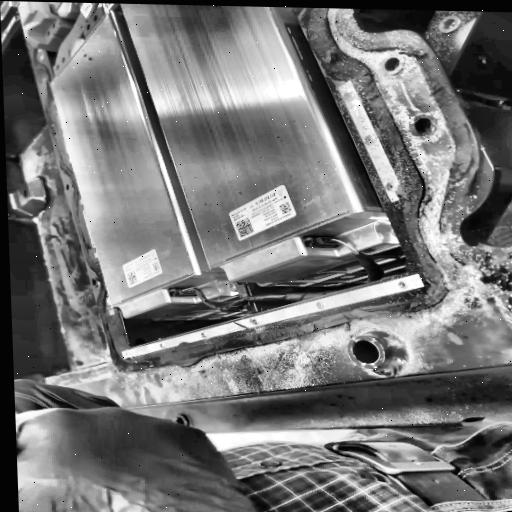battery_module: (119, 3, 359, 268), (49, 10, 199, 306)
busbar: (0, 0, 111, 87)
